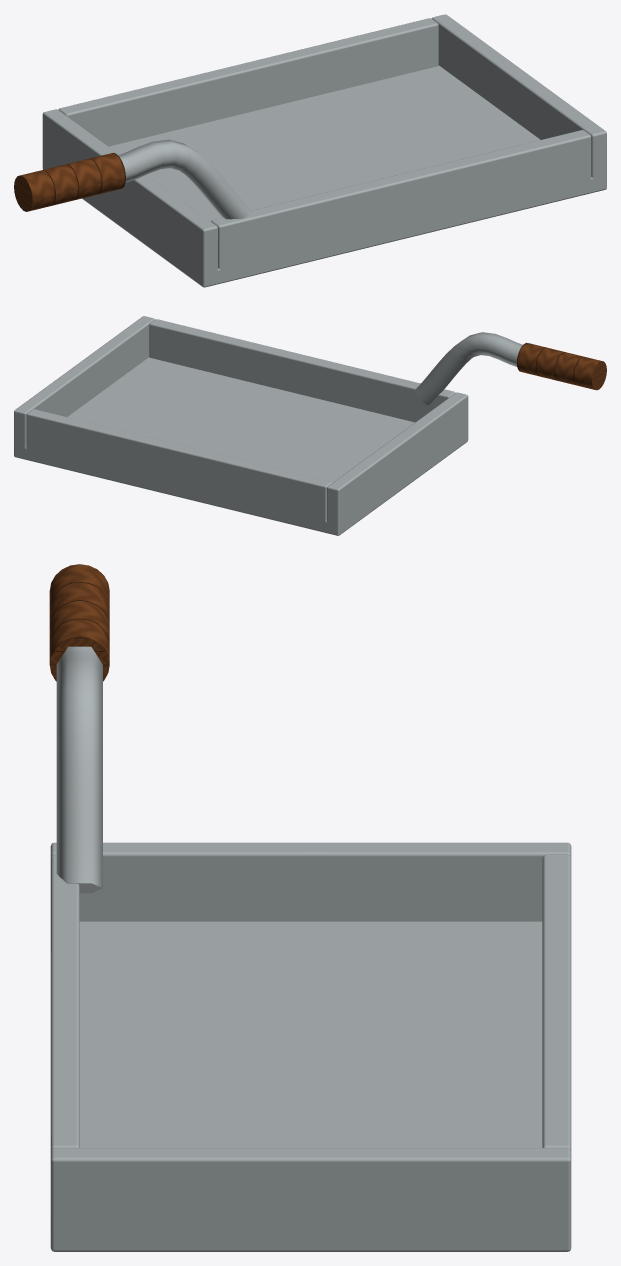
The model's file is wilderness-survival-camp-ember-pan-dc5e56a7__21956.glb.
3 renders of one model, top to bottom at view 1: azimuth 30°, elevation 25°; view 2: azimuth 150°, elevation 25°; view 3: azimuth 270°, elevation 25°, orthographic. The views are drawn at different scales.
Parts seen in each view (by area): view 1: ember-pan; view 2: ember-pan; view 3: ember-pan.
Part boxes in pixels (<box>): ember-pan: <box>14,14,606,287</box>; ember-pan: <box>14,316,606,535</box>; ember-pan: <box>49,564,571,1251</box>.
Size of the model in its own units: 0.925 by 0.2261 by 0.451.
2 materials, 1 textured.
